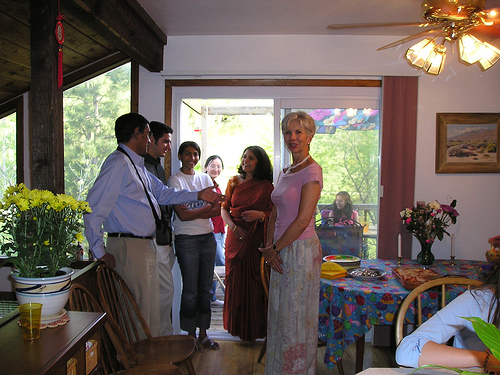without_mask: (116, 113, 155, 156), (282, 116, 314, 154), (149, 123, 180, 160), (238, 145, 270, 178), (178, 139, 206, 171), (203, 153, 227, 180), (332, 190, 356, 213)
